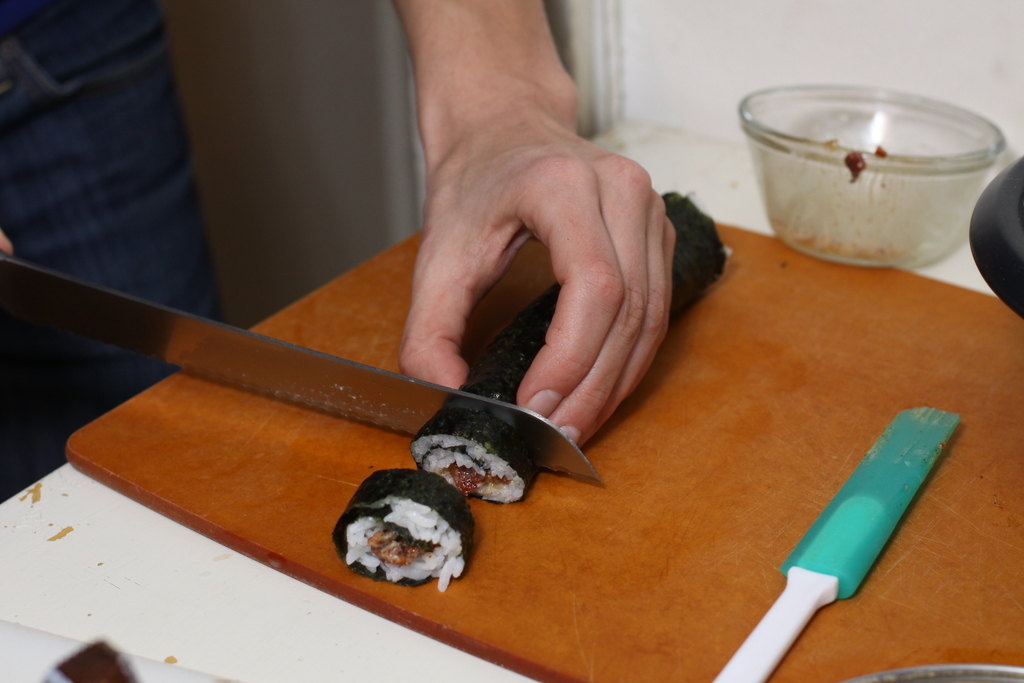sushi: (408, 190, 730, 503), (336, 470, 474, 597)
